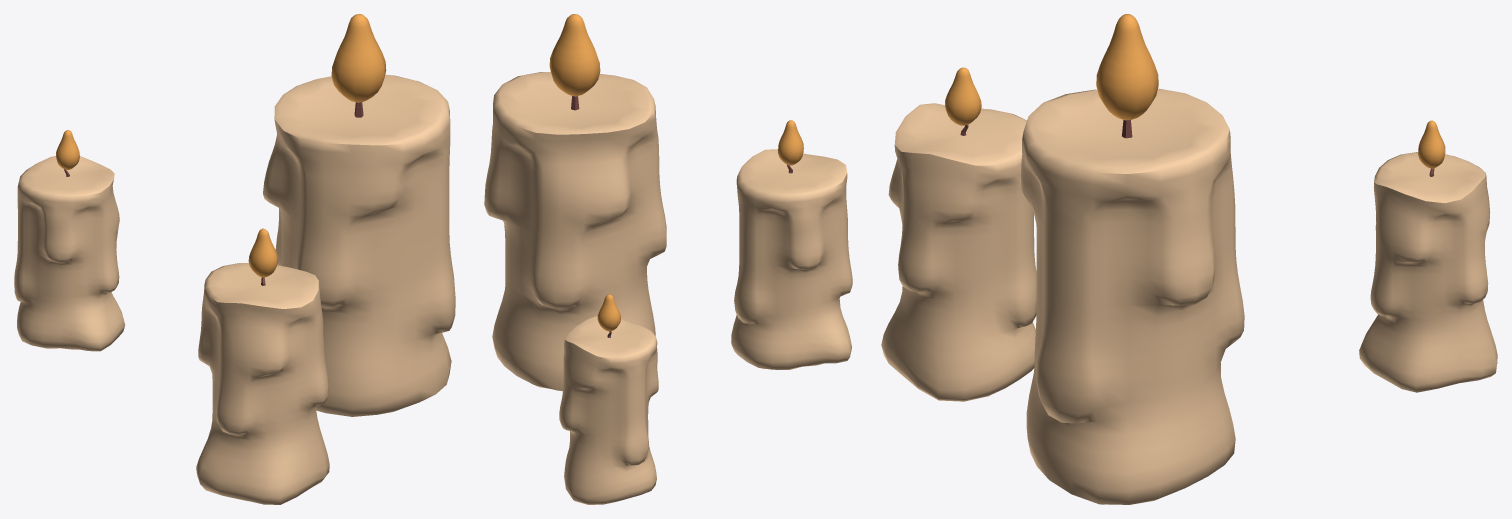
The model's file is velav1.fbx.
3 views of the same model, side by side, from view 1: azimuth 30°, elevation 25°; view 2: azimuth 150°, elevation 25°; view 3: azimuth 270°, elevation 25° (orthographic). The views are drawn at different scales.
Visible parts, largest first — view 1: Cylinder.011; view 2: Cylinder.011; view 3: Cylinder.011.
Part boxes in pixels (box(x1,y1,x2,y2)): Cylinder.011: box(14, 14, 455, 504); Cylinder.011: box(484, 14, 852, 504); Cylinder.011: box(881, 14, 1497, 504).
Bounding box in the file's own units: 0.3672 × 0.4283 × 0.5259.
